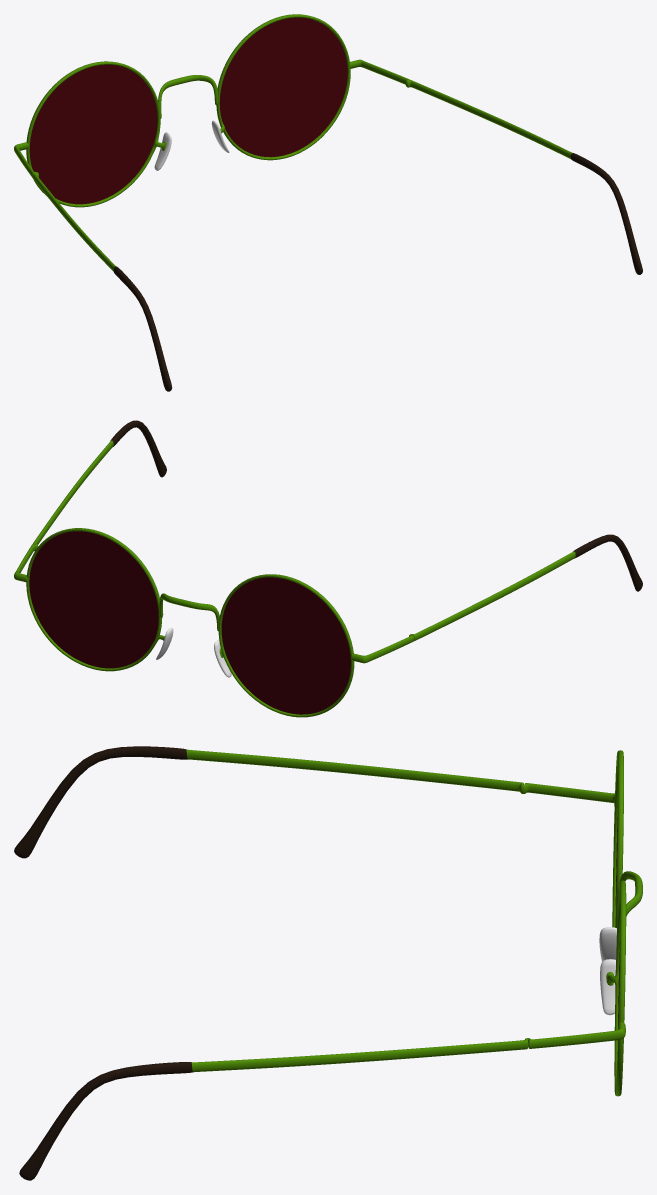
The model's file is greenSunglasses.fbx.
3 views of the same model, one above another, from view 1: azimuth 30°, elevation 25°; view 2: azimuth 150°, elevation 25°; view 3: azimuth 270°, elevation 25° (orthographic). The views are drawn at different scales.
Parts seen in each view (by area): view 1: Cube.001; view 2: Cube.001; view 3: Cube.001.
Boxes of the visible parts, box(x1,y1,x2,y2) form: Cube.001: box(14, 14, 642, 391); Cube.001: box(14, 420, 642, 717); Cube.001: box(14, 746, 642, 1180).
Bounding box in the file's own units: 17.64 × 4.94 × 14.38.
